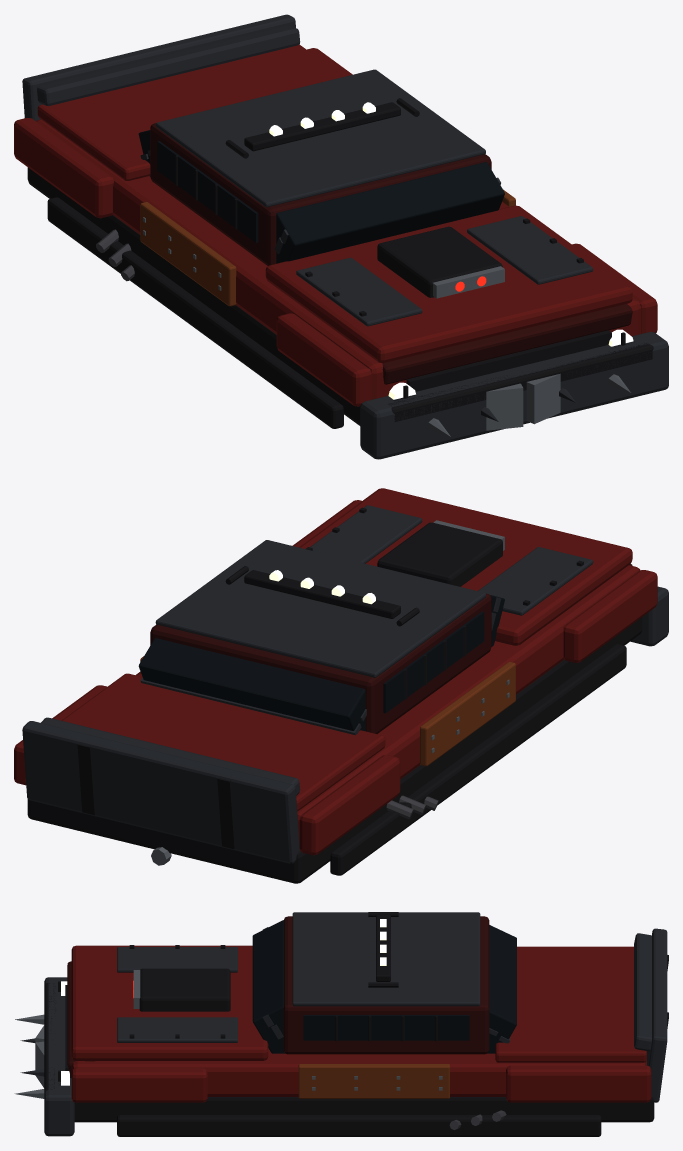
The model's file is car_body.glb.
The picture shows the model from 3 angles, top to bottom: view 1: azimuth 30°, elevation 25°; view 2: azimuth 150°, elevation 25°; view 3: azimuth 270°, elevation 25°; orthographic projection. The views are drawn at different scales.
Parts seen in each view (by area): view 1: chassis, part_armor_l, part_tombstone, part_spikes, part_roof; view 2: chassis, part_tombstone, part_armor_l, part_roof; view 3: chassis, part_armor_r, part_tombstone, part_roof, part_spikes.
Part boxes in pixels (x1,y1,x2,y2): chassis: [14, 25, 668, 459]; part_armor_l: [140, 202, 236, 306]; part_tombstone: [22, 14, 295, 121]; part_spikes: [428, 373, 630, 436]; part_roof: [225, 98, 419, 158]; chassis: [14, 488, 668, 883]; part_tombstone: [22, 721, 299, 863]; part_armor_l: [420, 662, 515, 766]; part_roof: [225, 566, 419, 626]; chassis: [44, 912, 654, 1136]; part_armor_r: [298, 1064, 449, 1098]; part_tombstone: [647, 928, 668, 1102]; part_roof: [368, 912, 398, 987]; part_spikes: [14, 1014, 44, 1098].
Bounding box in the file's own units: 2.03 × 1.01 × 4.33.
